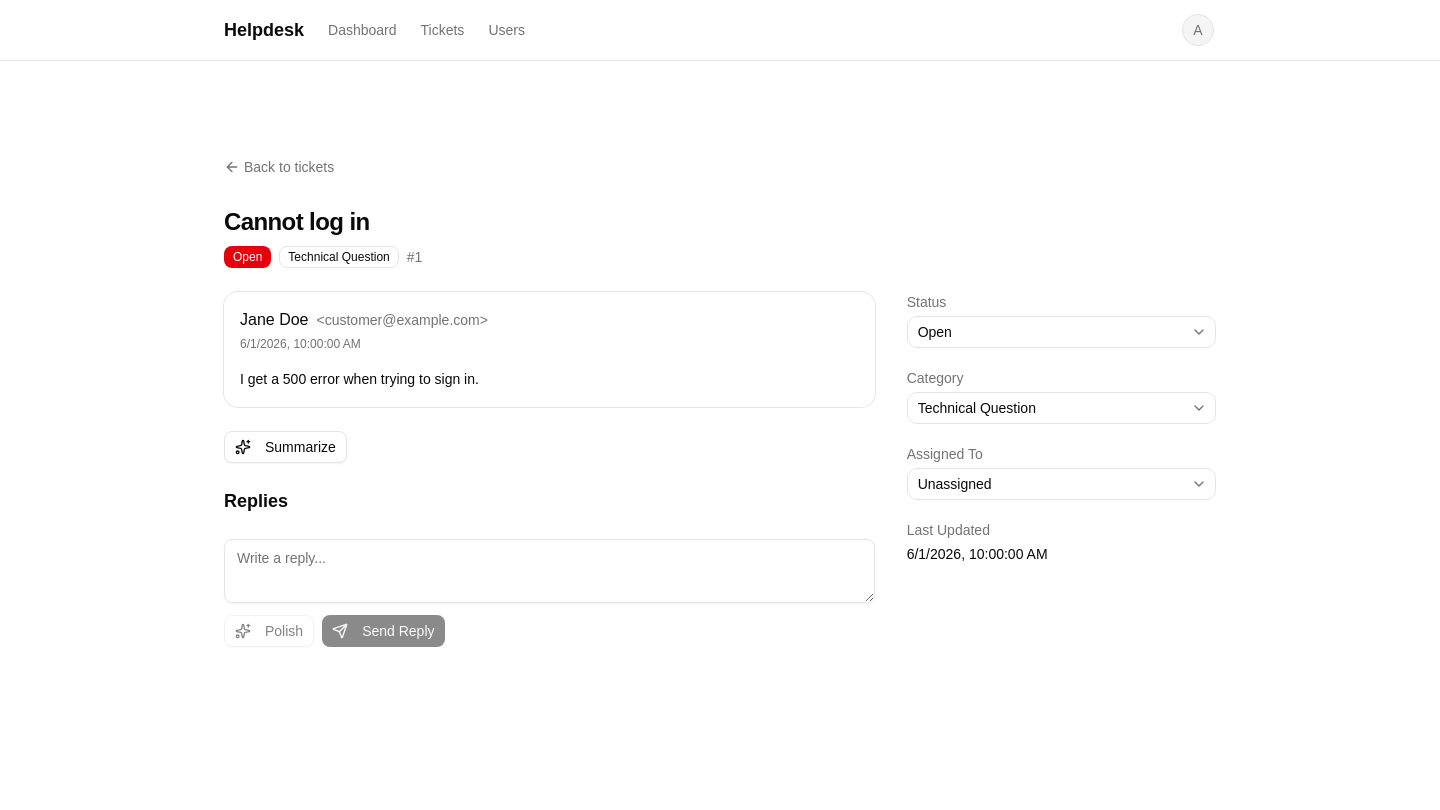
it: TicketDetail — error handling › shows error message when update fails
The image size is (1440, 810).
Expected: the heading "Cannot log in" is shown, [224,208,370,235]
Click the dropdown labelled "Open ▼" at coordinates (935, 332), box [907,316,1216,348]
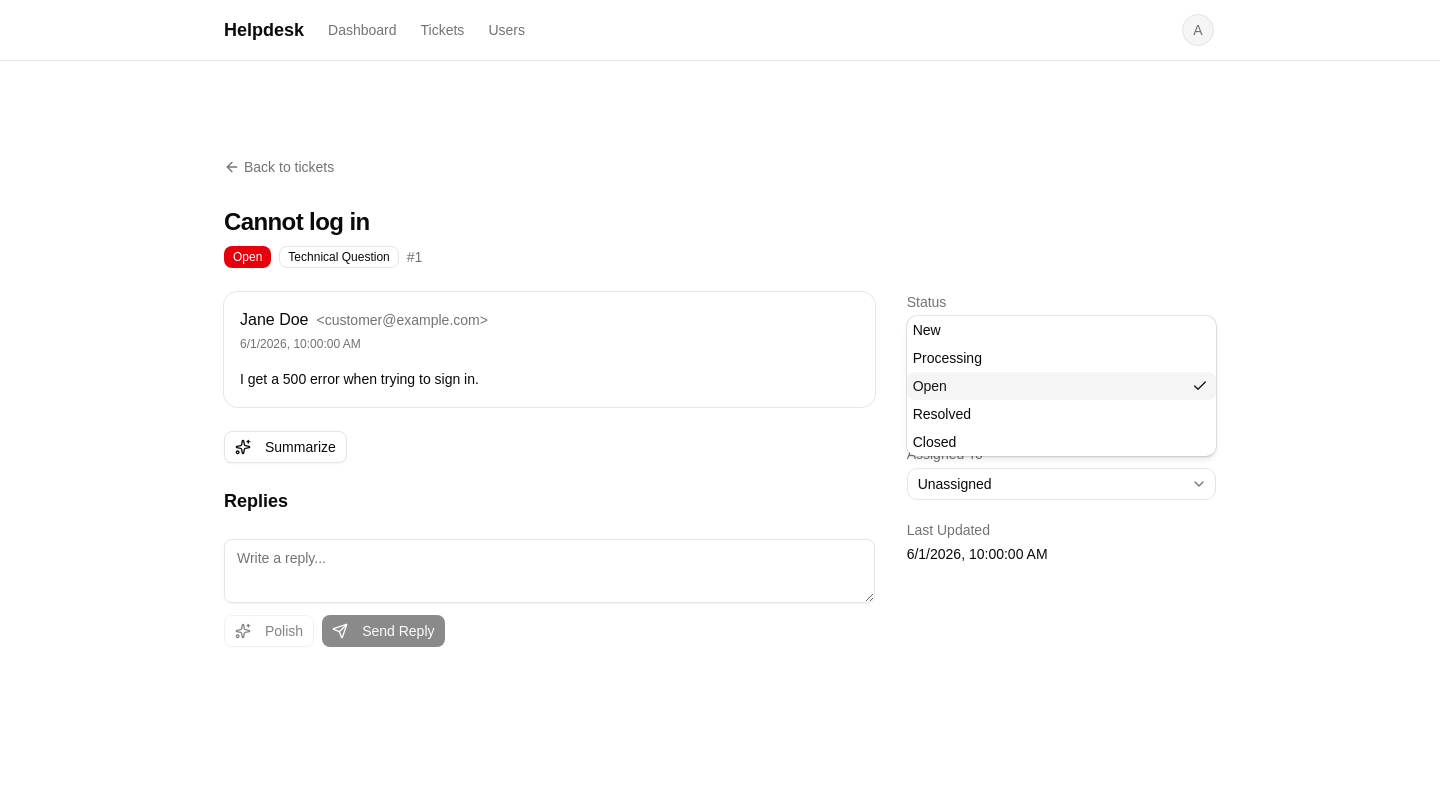
Click the option "Resolved" at coordinates (942, 414), box [913,406,971,422]
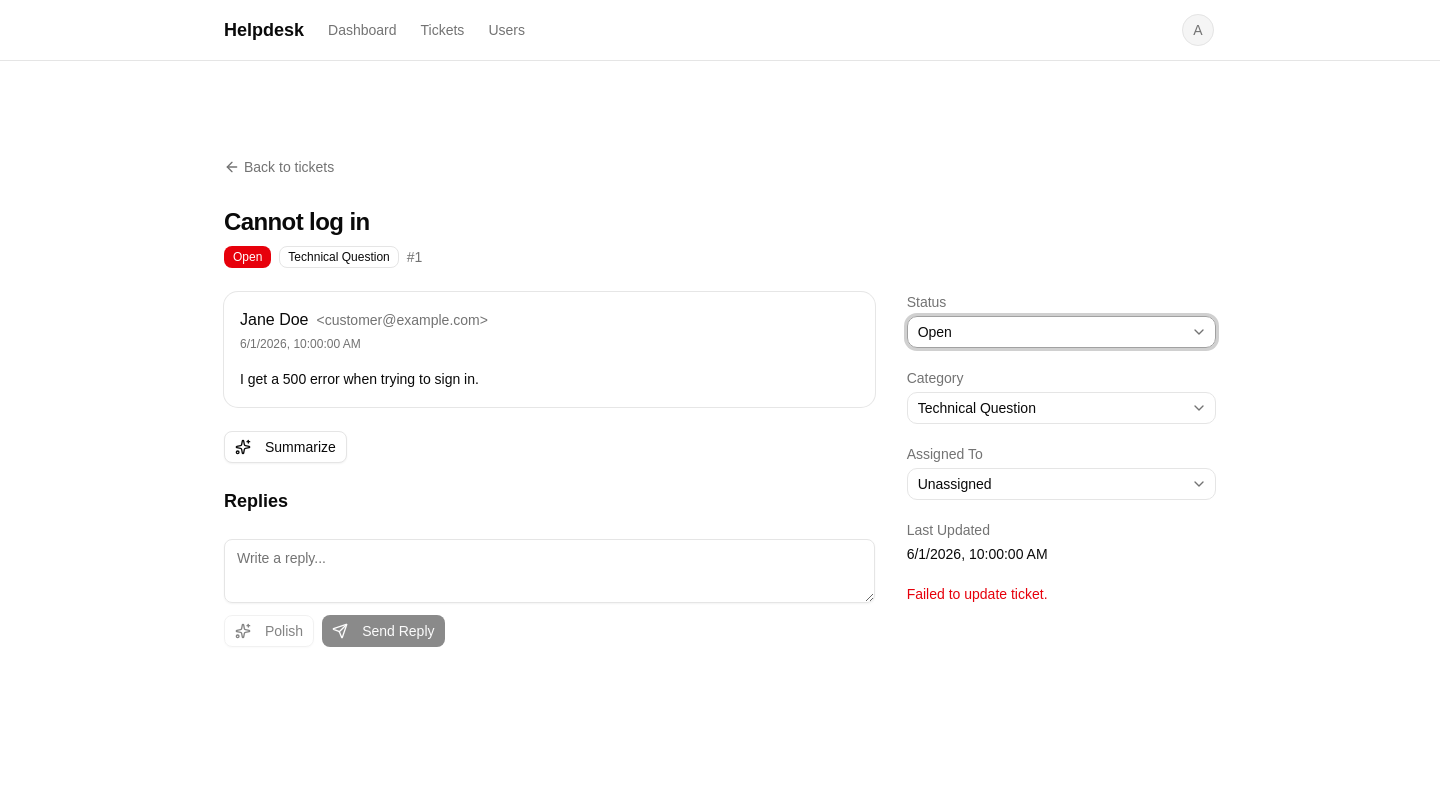
Result: the text "Failed to update ticket." is shown at [907,586,1048,602]
